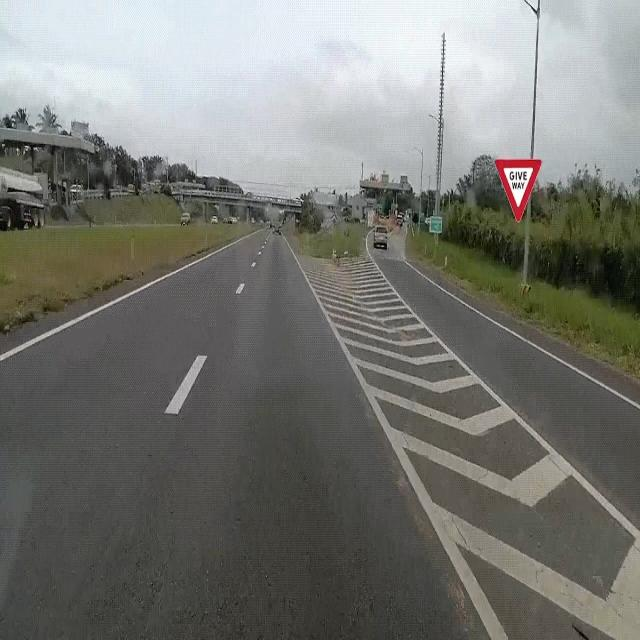Ceder-le-Passage: (492, 151, 546, 229)
